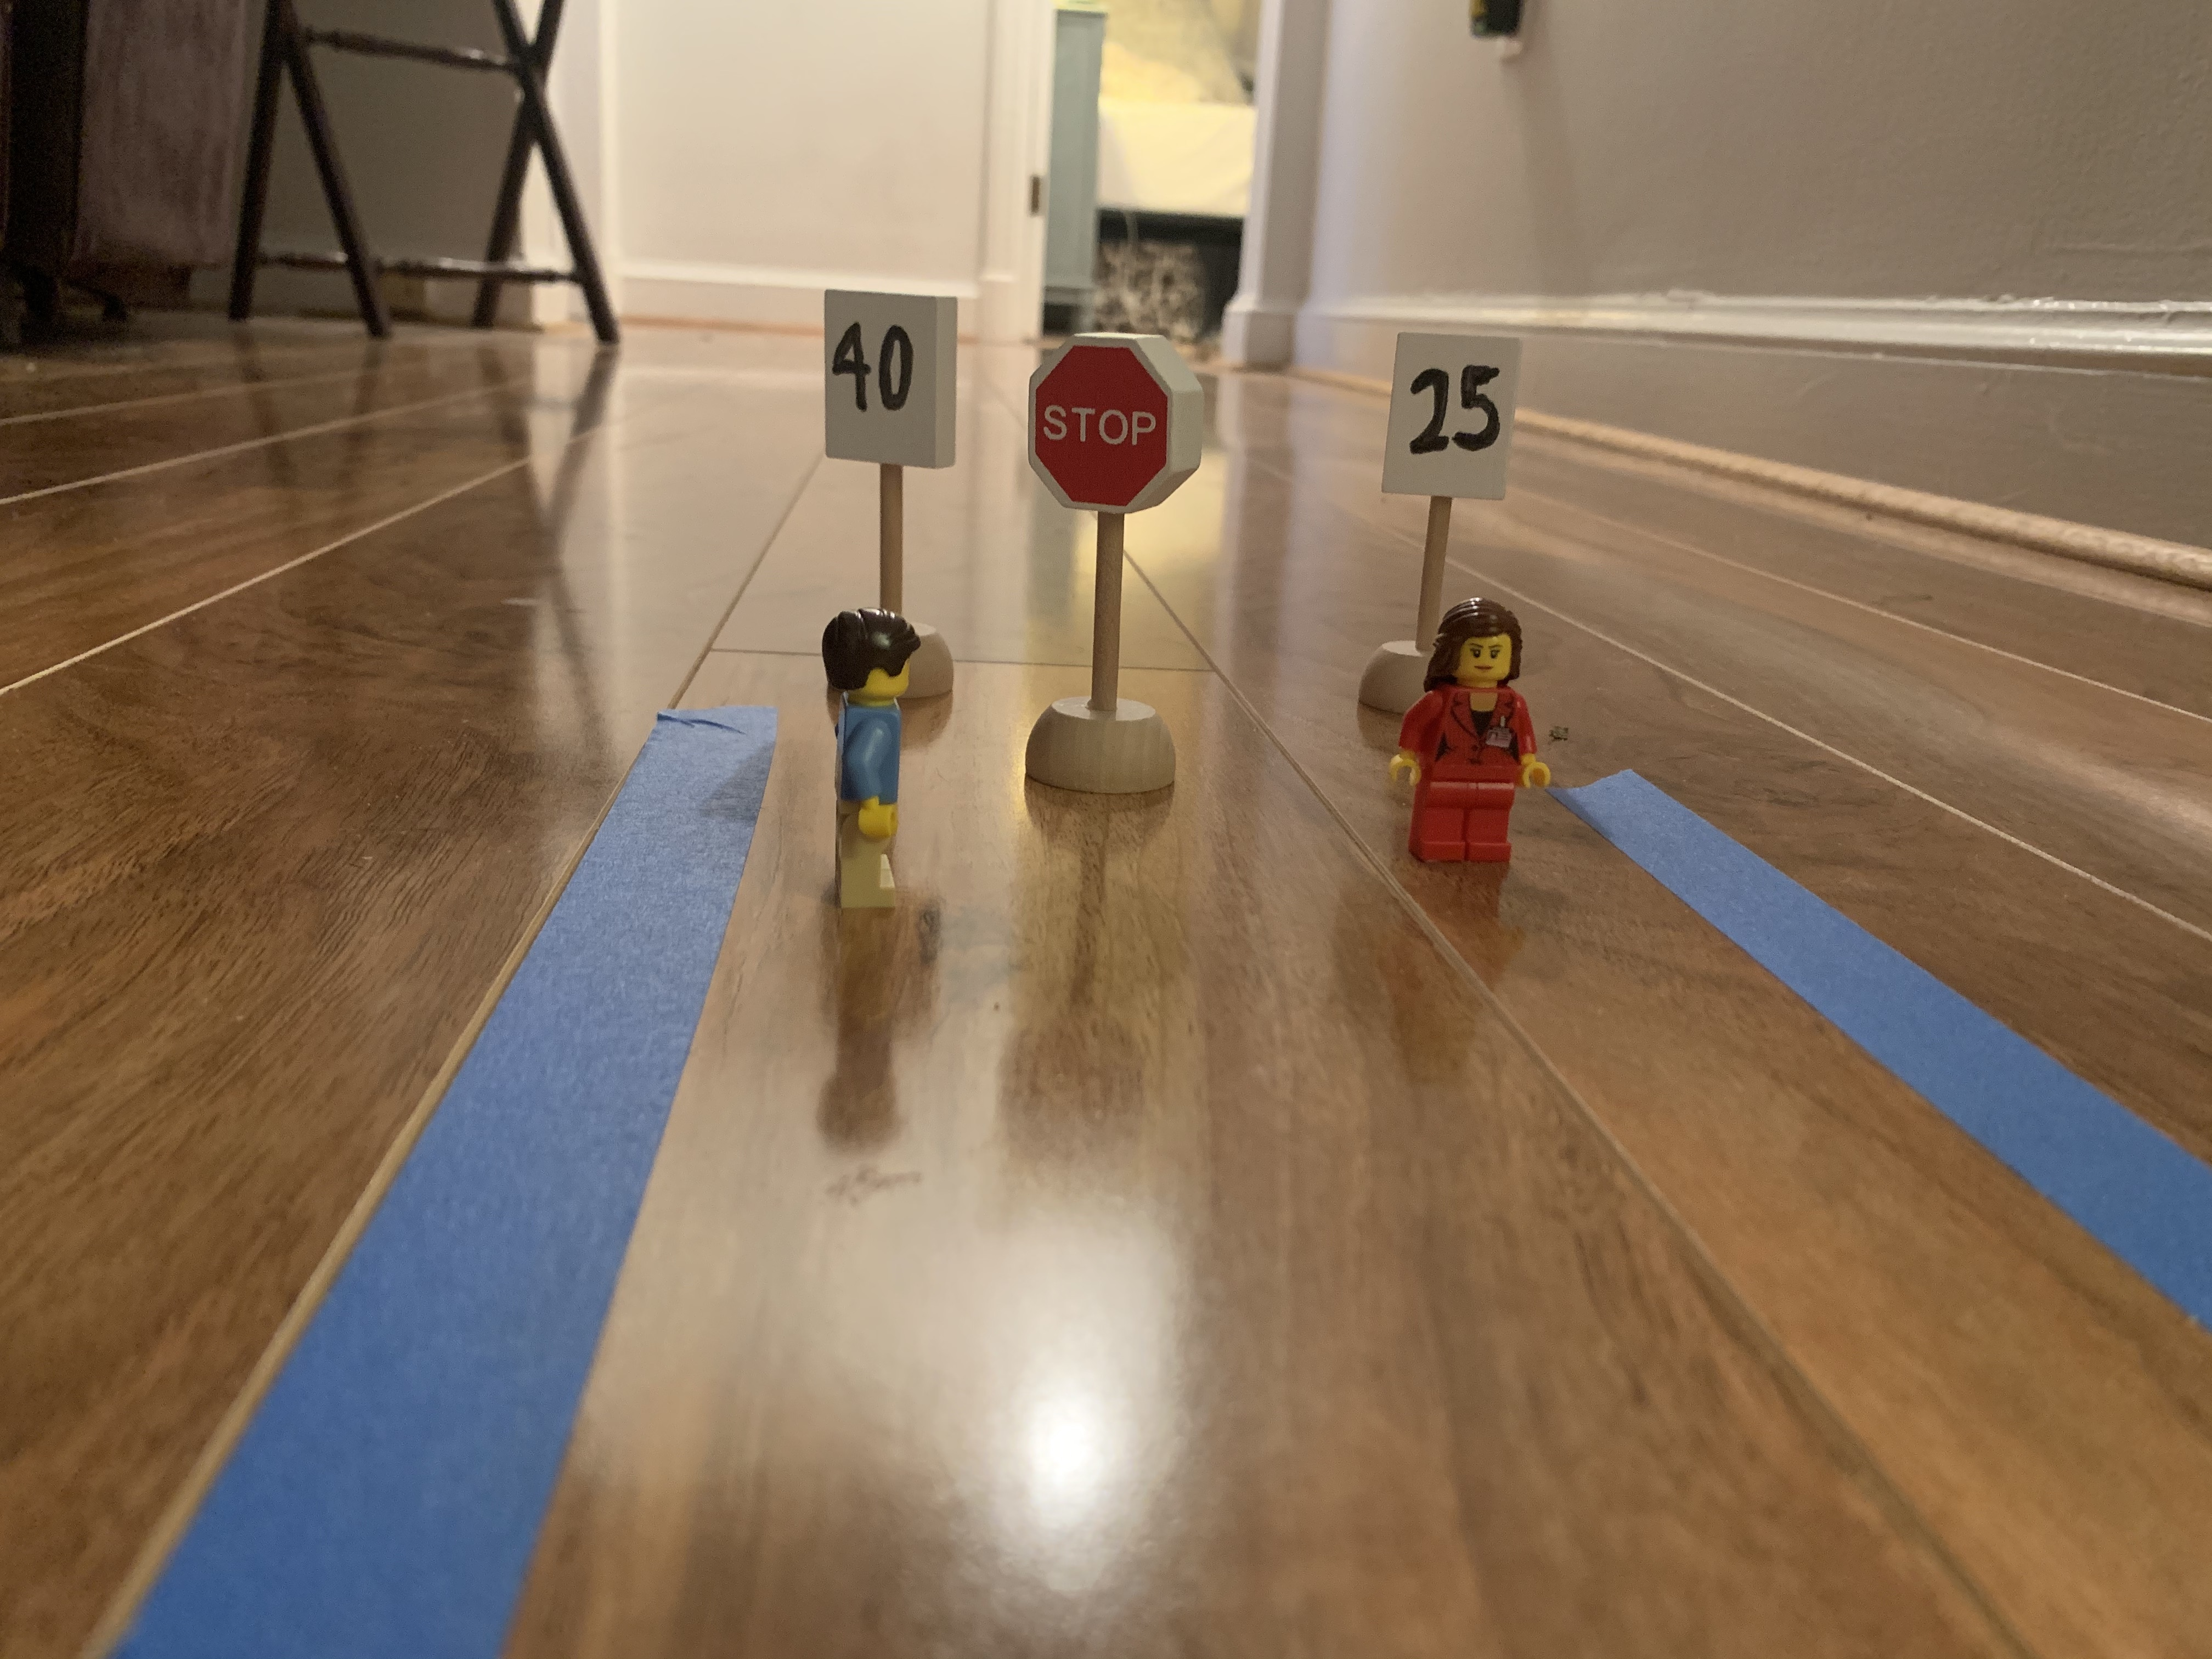Person: (1388, 577, 1565, 881), (799, 585, 943, 936)
Speed Limit 25: (1397, 332, 1512, 497)
Speed Limit 40: (825, 289, 952, 465)
Stop Sign: (1029, 330, 1208, 509)
